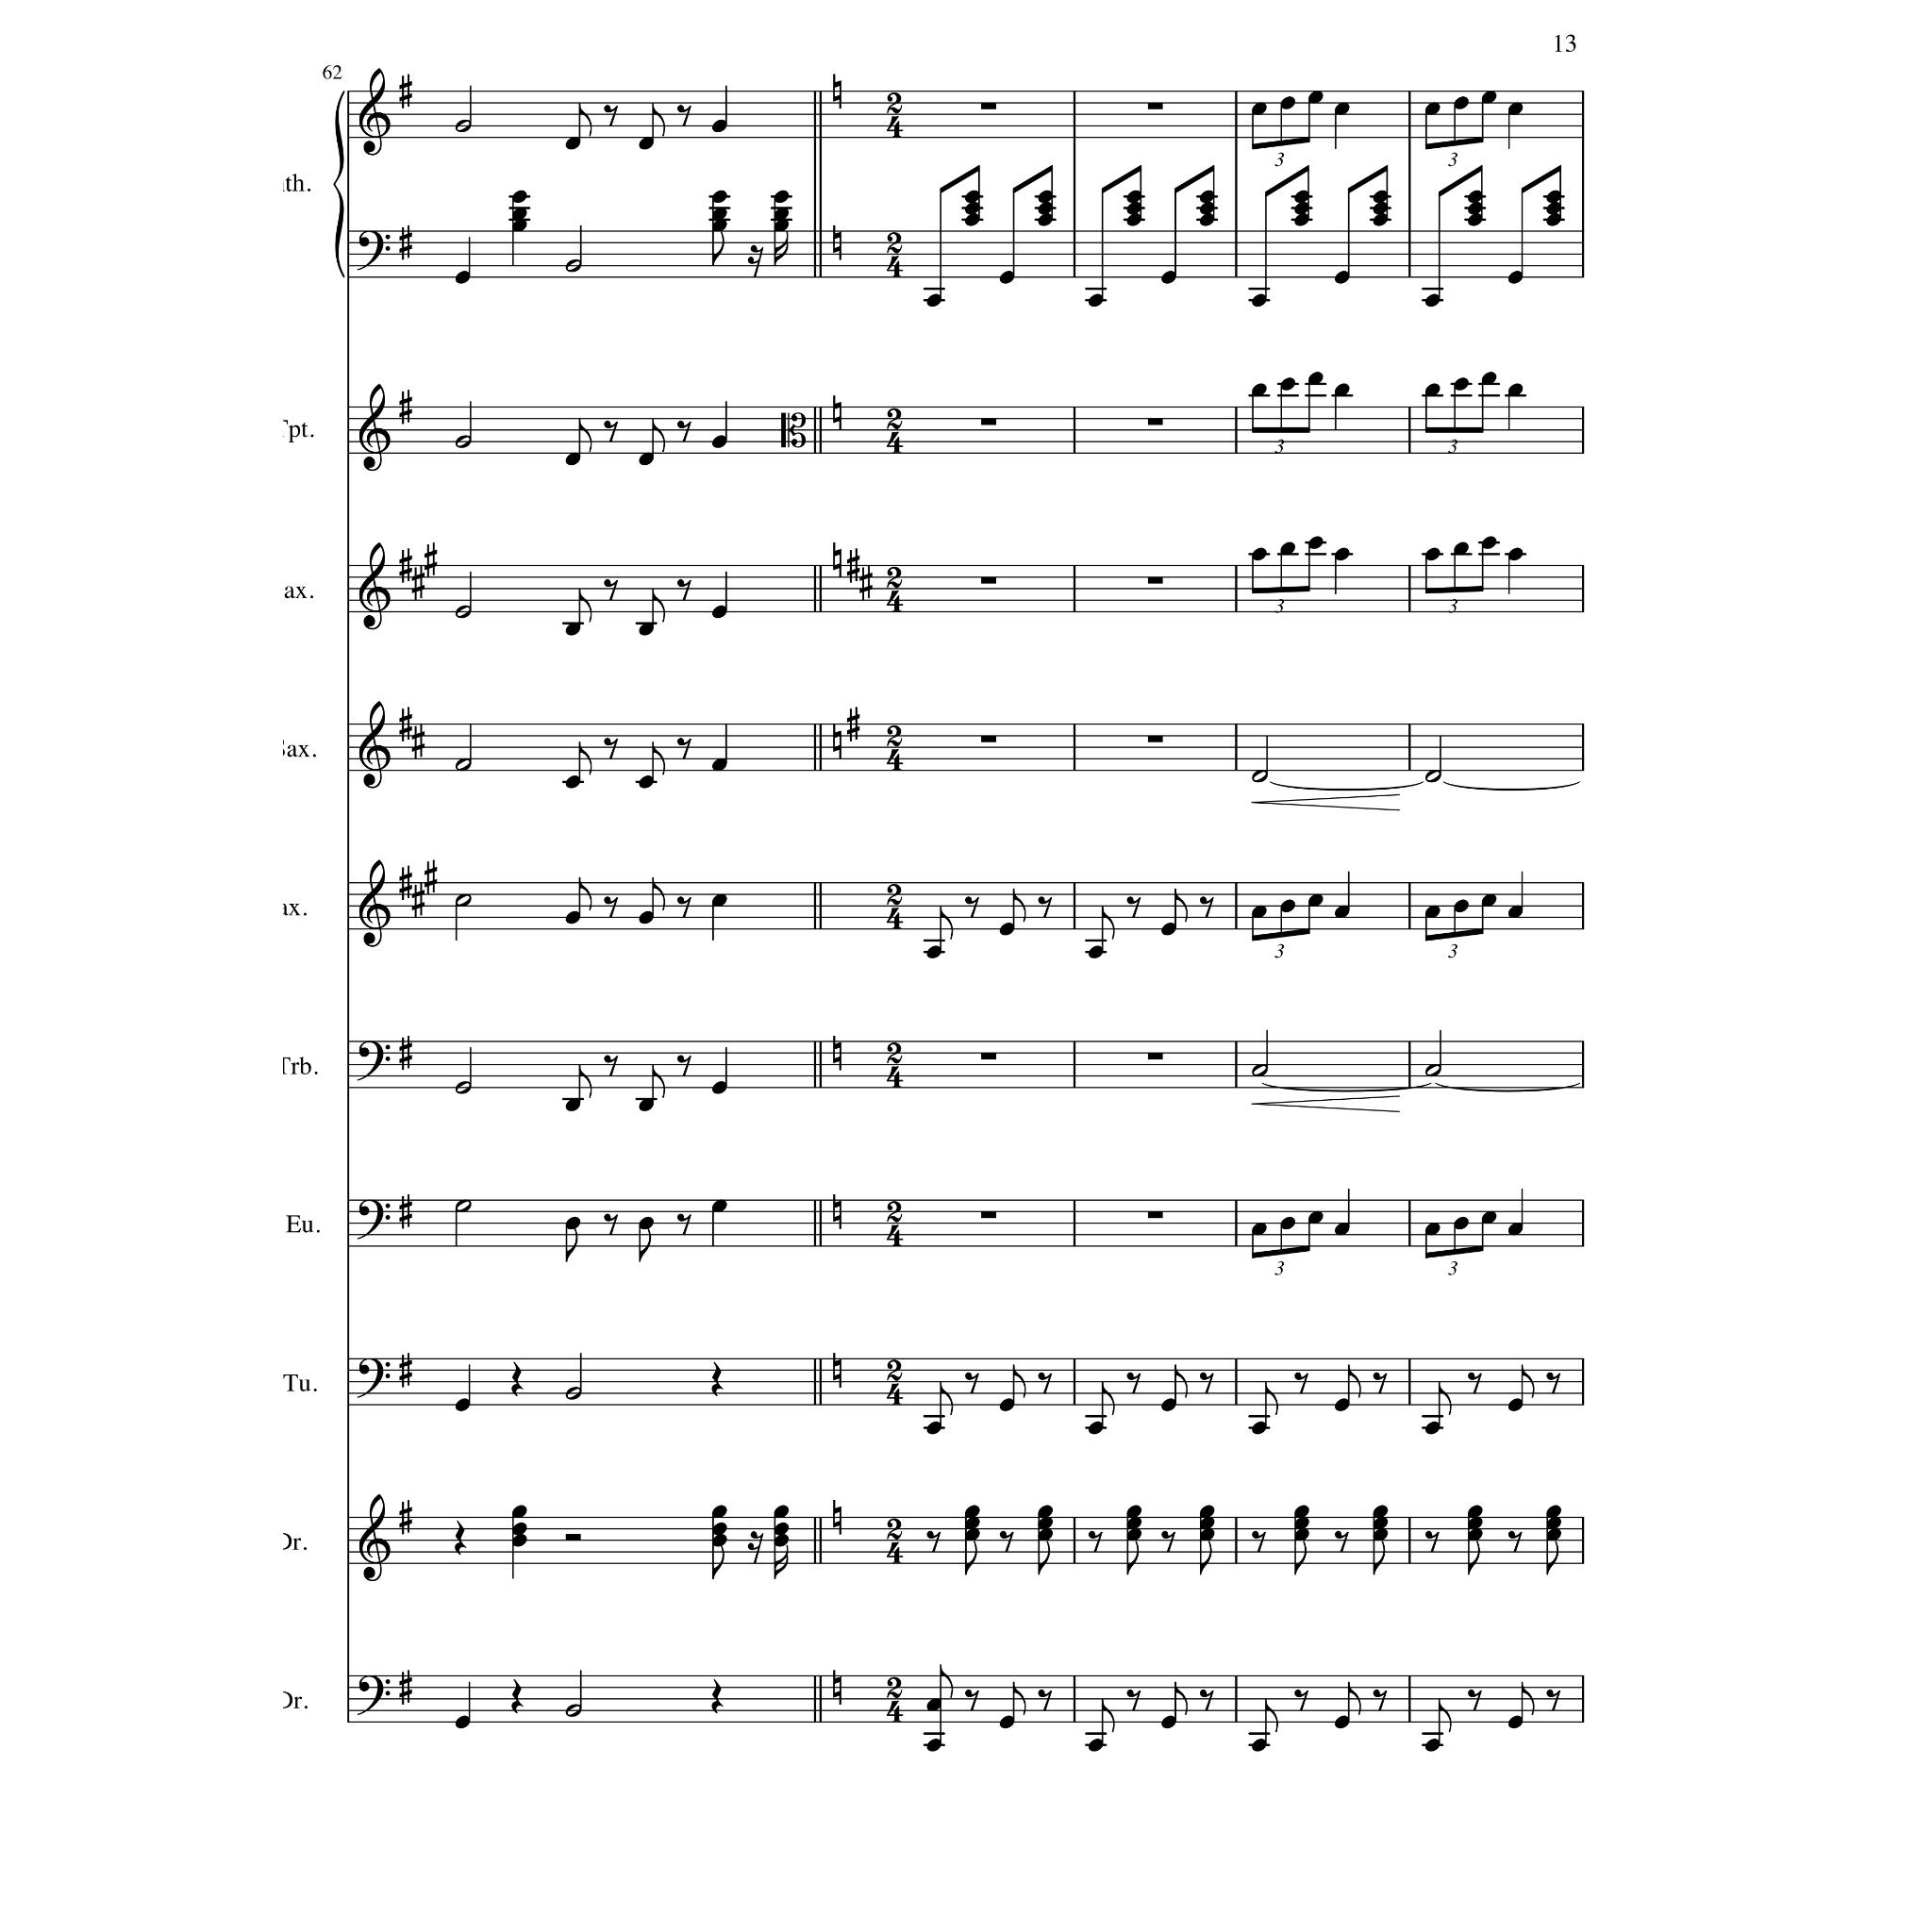brace: (333, 90, 345, 280)
fClef: (357, 1200, 391, 1240), (357, 1040, 391, 1081), (357, 1675, 391, 1716), (357, 230, 391, 271), (357, 1359, 391, 1398)
flag16thDown: (773, 1545, 787, 1580), (773, 232, 787, 267)
flag8thDown: (713, 1545, 725, 1580), (1295, 1541, 1307, 1575), (1373, 1541, 1385, 1575), (1200, 1541, 1212, 1575), (1546, 1541, 1559, 1575), (1467, 1541, 1479, 1575), (566, 1228, 579, 1261), (713, 232, 725, 265), (639, 1228, 651, 1261), (1039, 1541, 1051, 1575), (966, 1541, 978, 1575), (1127, 1541, 1139, 1575)
flag8thUp: (939, 906, 954, 941), (1522, 1683, 1536, 1716), (1522, 1366, 1536, 1399), (1438, 1382, 1453, 1415), (1438, 1698, 1453, 1732), (651, 419, 665, 453), (651, 104, 665, 138), (651, 1065, 665, 1099), (651, 878, 665, 911), (651, 741, 665, 775), (651, 589, 665, 623), (939, 1665, 954, 1698), (939, 1382, 954, 1415), (1102, 906, 1115, 941), (1348, 1683, 1361, 1716), (1348, 1366, 1361, 1399), (1175, 1366, 1187, 1399), (1175, 888, 1187, 922), (1175, 1683, 1187, 1716), (1265, 1698, 1277, 1732), (1265, 1382, 1277, 1415), (579, 1065, 591, 1099), (579, 878, 591, 911), (579, 741, 591, 775), (579, 589, 591, 623), (579, 419, 591, 453), (579, 104, 591, 138), (1014, 1683, 1026, 1716), (1014, 1366, 1026, 1399), (1014, 888, 1026, 922), (1102, 1698, 1115, 1732), (1102, 1382, 1115, 1415)
gClef: (359, 67, 391, 157), (359, 860, 391, 948), (359, 701, 391, 789), (359, 543, 391, 632), (359, 1493, 391, 1582), (359, 384, 391, 471)
noteheadBlack: (1307, 1210, 1323, 1224), (1424, 103, 1440, 117), (1307, 536, 1323, 550), (1424, 294, 1440, 308), (1293, 1504, 1309, 1518), (1293, 1516, 1309, 1530), (1293, 202, 1309, 216), (1307, 90, 1323, 104), (1307, 372, 1323, 386), (1373, 202, 1389, 216), (1373, 1516, 1389, 1530), (1373, 1504, 1389, 1518), (1334, 1398, 1350, 1412), (1334, 103, 1350, 117), (1334, 1714, 1350, 1729), (1251, 294, 1267, 308), (1251, 103, 1267, 117), (1161, 1714, 1177, 1729), (1198, 1516, 1214, 1530), (1198, 1504, 1214, 1518), (1198, 202, 1214, 216), (1279, 899, 1295, 913), (1279, 377, 1295, 391), (1546, 1504, 1562, 1518), (1546, 1516, 1562, 1530), (1546, 202, 1562, 216), (1507, 1714, 1523, 1729), (1507, 1398, 1523, 1412), (1481, 1210, 1497, 1224), (1481, 536, 1497, 550), (1481, 372, 1497, 386), (1481, 90, 1497, 104), (1507, 103, 1523, 117), (1453, 899, 1468, 913), (1453, 377, 1468, 391), (1467, 1504, 1483, 1518), (1467, 1516, 1483, 1530), (1467, 202, 1483, 216), (639, 775, 655, 789), (639, 1097, 655, 1111), (639, 911, 655, 925), (639, 136, 655, 150), (711, 605, 727, 619), (711, 435, 727, 449), (711, 207, 727, 221), (711, 757, 727, 771), (1161, 1398, 1177, 1412), (711, 1504, 727, 1518), (711, 1522, 727, 1536), (711, 1200, 727, 1214), (711, 1081, 727, 1095), (455, 1398, 471, 1412), (511, 1504, 527, 1518), (511, 1522, 527, 1536), (511, 207, 527, 221), (564, 1097, 580, 1111), (564, 911, 580, 925), (564, 775, 580, 789), (564, 136, 580, 150), (455, 1714, 471, 1729), (1037, 1504, 1053, 1518), (1037, 1516, 1053, 1530), (1037, 202, 1053, 216), (1088, 294, 1104, 308), (998, 1398, 1014, 1412), (998, 922, 1014, 936), (998, 1714, 1014, 1729), (1125, 1504, 1141, 1518), (1125, 1516, 1141, 1530), (1125, 202, 1141, 216), (1161, 922, 1177, 936), (925, 294, 941, 308), (773, 1504, 789, 1518), (773, 1522, 789, 1536), (773, 207, 789, 221), (964, 1504, 980, 1518), (964, 1516, 980, 1530), (964, 202, 980, 216), (1424, 548, 1440, 561), (1307, 893, 1323, 906), (1424, 906, 1440, 918), (1424, 384, 1440, 396), (1293, 1529, 1309, 1541), (1293, 191, 1309, 203), (1293, 214, 1309, 226), (1424, 1223, 1440, 1235), (1373, 191, 1389, 203), (1373, 1529, 1389, 1541), (1373, 214, 1389, 226), (1334, 271, 1350, 283), (1334, 1223, 1350, 1235), (1334, 906, 1350, 918), (1334, 548, 1350, 561), (1334, 384, 1350, 396), (1251, 1223, 1267, 1235), (1251, 906, 1267, 918), (1251, 548, 1267, 561), (1251, 384, 1267, 396), (1251, 1422, 1267, 1435), (1251, 1739, 1267, 1752), (1198, 1529, 1214, 1541), (1198, 191, 1214, 203), (1198, 214, 1214, 226), (1279, 1217, 1295, 1230), (1279, 543, 1295, 556), (1279, 97, 1295, 110), (1546, 1529, 1562, 1541), (1546, 191, 1562, 203), (1546, 214, 1562, 226), (1507, 1223, 1523, 1235), (1507, 906, 1523, 918), (1507, 548, 1523, 561), (1507, 384, 1523, 396), (1507, 271, 1523, 283), (1424, 1739, 1440, 1752), (1481, 893, 1497, 906), (1453, 1217, 1468, 1230), (1453, 543, 1468, 556), (1453, 97, 1468, 110), (1467, 214, 1483, 226), (1467, 1529, 1483, 1541), (1467, 191, 1483, 203), (1424, 1422, 1440, 1435), (639, 1217, 655, 1230), (639, 623, 655, 635), (639, 453, 655, 465), (711, 191, 727, 203), (711, 219, 727, 232), (711, 120, 727, 133), (711, 1534, 727, 1546), (711, 893, 727, 906), (455, 271, 471, 283), (511, 1534, 527, 1546), (511, 191, 527, 203), (511, 219, 527, 232), (564, 1217, 580, 1230), (564, 623, 580, 635), (564, 453, 580, 465), (1037, 1529, 1053, 1541), (1037, 191, 1053, 203), (1037, 214, 1053, 226), (1088, 1739, 1104, 1752), (1088, 1422, 1104, 1435), (1088, 947, 1104, 959), (998, 271, 1014, 283), (1125, 1529, 1141, 1541), (1125, 191, 1141, 203), (1125, 214, 1141, 226), (1161, 271, 1177, 283), (925, 1422, 941, 1435), (773, 1534, 789, 1546), (925, 947, 941, 959), (773, 191, 789, 203), (773, 219, 789, 232), (964, 214, 980, 226), (964, 1529, 980, 1541), (964, 191, 980, 203), (925, 1739, 941, 1752), (925, 1698, 941, 1711)
noteheadHalf: (1424, 770, 1442, 784), (1424, 1063, 1442, 1077), (1251, 1063, 1269, 1077), (1251, 770, 1269, 784), (455, 1200, 472, 1214), (455, 1081, 472, 1095), (455, 605, 472, 619), (455, 435, 472, 449), (455, 893, 472, 906), (455, 759, 472, 771), (455, 120, 472, 133), (564, 1387, 582, 1399), (564, 1704, 582, 1716), (564, 260, 582, 272)
rest16th: (747, 244, 764, 278), (747, 1532, 764, 1564)
rest8th: (1293, 1688, 1309, 1711), (1293, 1371, 1309, 1394), (1251, 1530, 1267, 1553), (1545, 1688, 1560, 1711), (1545, 1371, 1560, 1394), (1507, 1530, 1523, 1553), (1424, 1530, 1440, 1553), (1467, 1688, 1483, 1711), (1467, 1371, 1483, 1394), (676, 1054, 692, 1077), (676, 738, 692, 761), (676, 579, 692, 602), (676, 421, 692, 444), (676, 104, 692, 127), (1037, 1688, 1053, 1711), (1037, 1371, 1053, 1394), (925, 1530, 941, 1553), (676, 1214, 692, 1235), (676, 897, 692, 918), (1037, 897, 1053, 918), (1161, 1530, 1175, 1553), (1373, 1688, 1387, 1711), (1373, 1371, 1387, 1394), (1334, 1530, 1348, 1553), (1200, 1688, 1214, 1711), (1200, 1371, 1214, 1394), (603, 1054, 617, 1077), (603, 738, 617, 761), (603, 579, 617, 602), (603, 421, 617, 444), (603, 104, 617, 127), (1088, 1530, 1102, 1553), (1000, 1530, 1014, 1553), (1127, 1688, 1141, 1711), (1127, 1371, 1141, 1394), (964, 1688, 978, 1711), (964, 1371, 978, 1394), (1200, 897, 1214, 918), (603, 1214, 617, 1235), (603, 897, 617, 918), (1127, 897, 1141, 918), (964, 897, 978, 918)
restHalf: (564, 1534, 580, 1541)
restQuarter: (711, 1679, 724, 1714), (511, 1679, 524, 1714), (455, 1520, 467, 1555), (711, 1362, 724, 1396), (511, 1362, 524, 1396)
restWhole: (980, 577, 996, 586), (1146, 577, 1162, 586), (980, 103, 996, 110), (1146, 1212, 1162, 1219), (1146, 1053, 1162, 1060), (980, 419, 996, 426), (980, 736, 996, 743), (980, 1053, 996, 1060), (980, 1212, 996, 1219), (1146, 103, 1162, 110), (1146, 419, 1162, 426), (1146, 736, 1162, 743)
